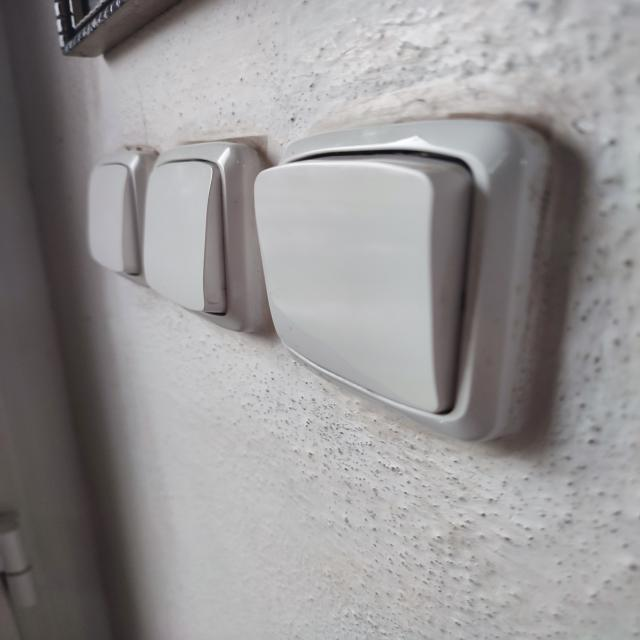house switch: (255, 119, 549, 443), (144, 141, 265, 333), (88, 151, 158, 288)
